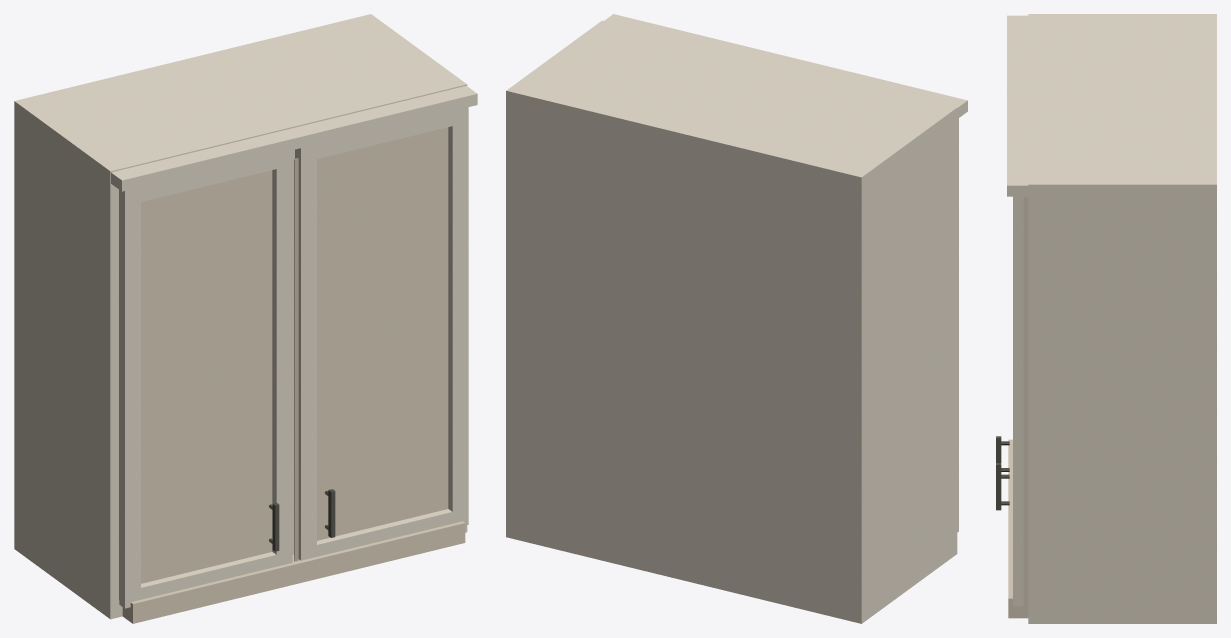
The model's file is cabinet_wall.glb.
The picture shows the model from 3 angles, left to right: view 1: azimuth 30°, elevation 25°; view 2: azimuth 150°, elevation 25°; view 3: azimuth 270°, elevation 25°; orthographic projection.
Parts seen in each view (by area): view 1: home_cabinet_wall; view 2: home_cabinet_wall; view 3: home_cabinet_wall.
Boxes of the visible parts, x1=… form: home_cabinet_wall: x1=14, y1=14, x2=477, y2=623; home_cabinet_wall: x1=506, y1=14, x2=967, y2=623; home_cabinet_wall: x1=996, y1=14, x2=1216, y2=623.
Bounding box in the file's own units: 0.6 × 0.72 × 0.328.
1 material, 1 textured.
